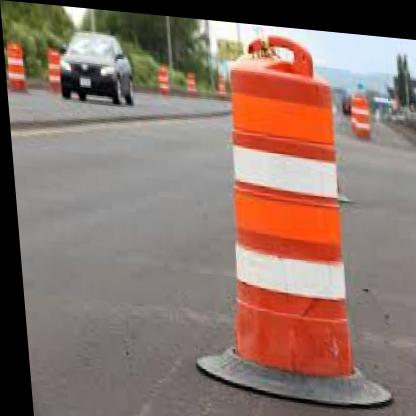obstacle: (218, 35, 348, 372)
